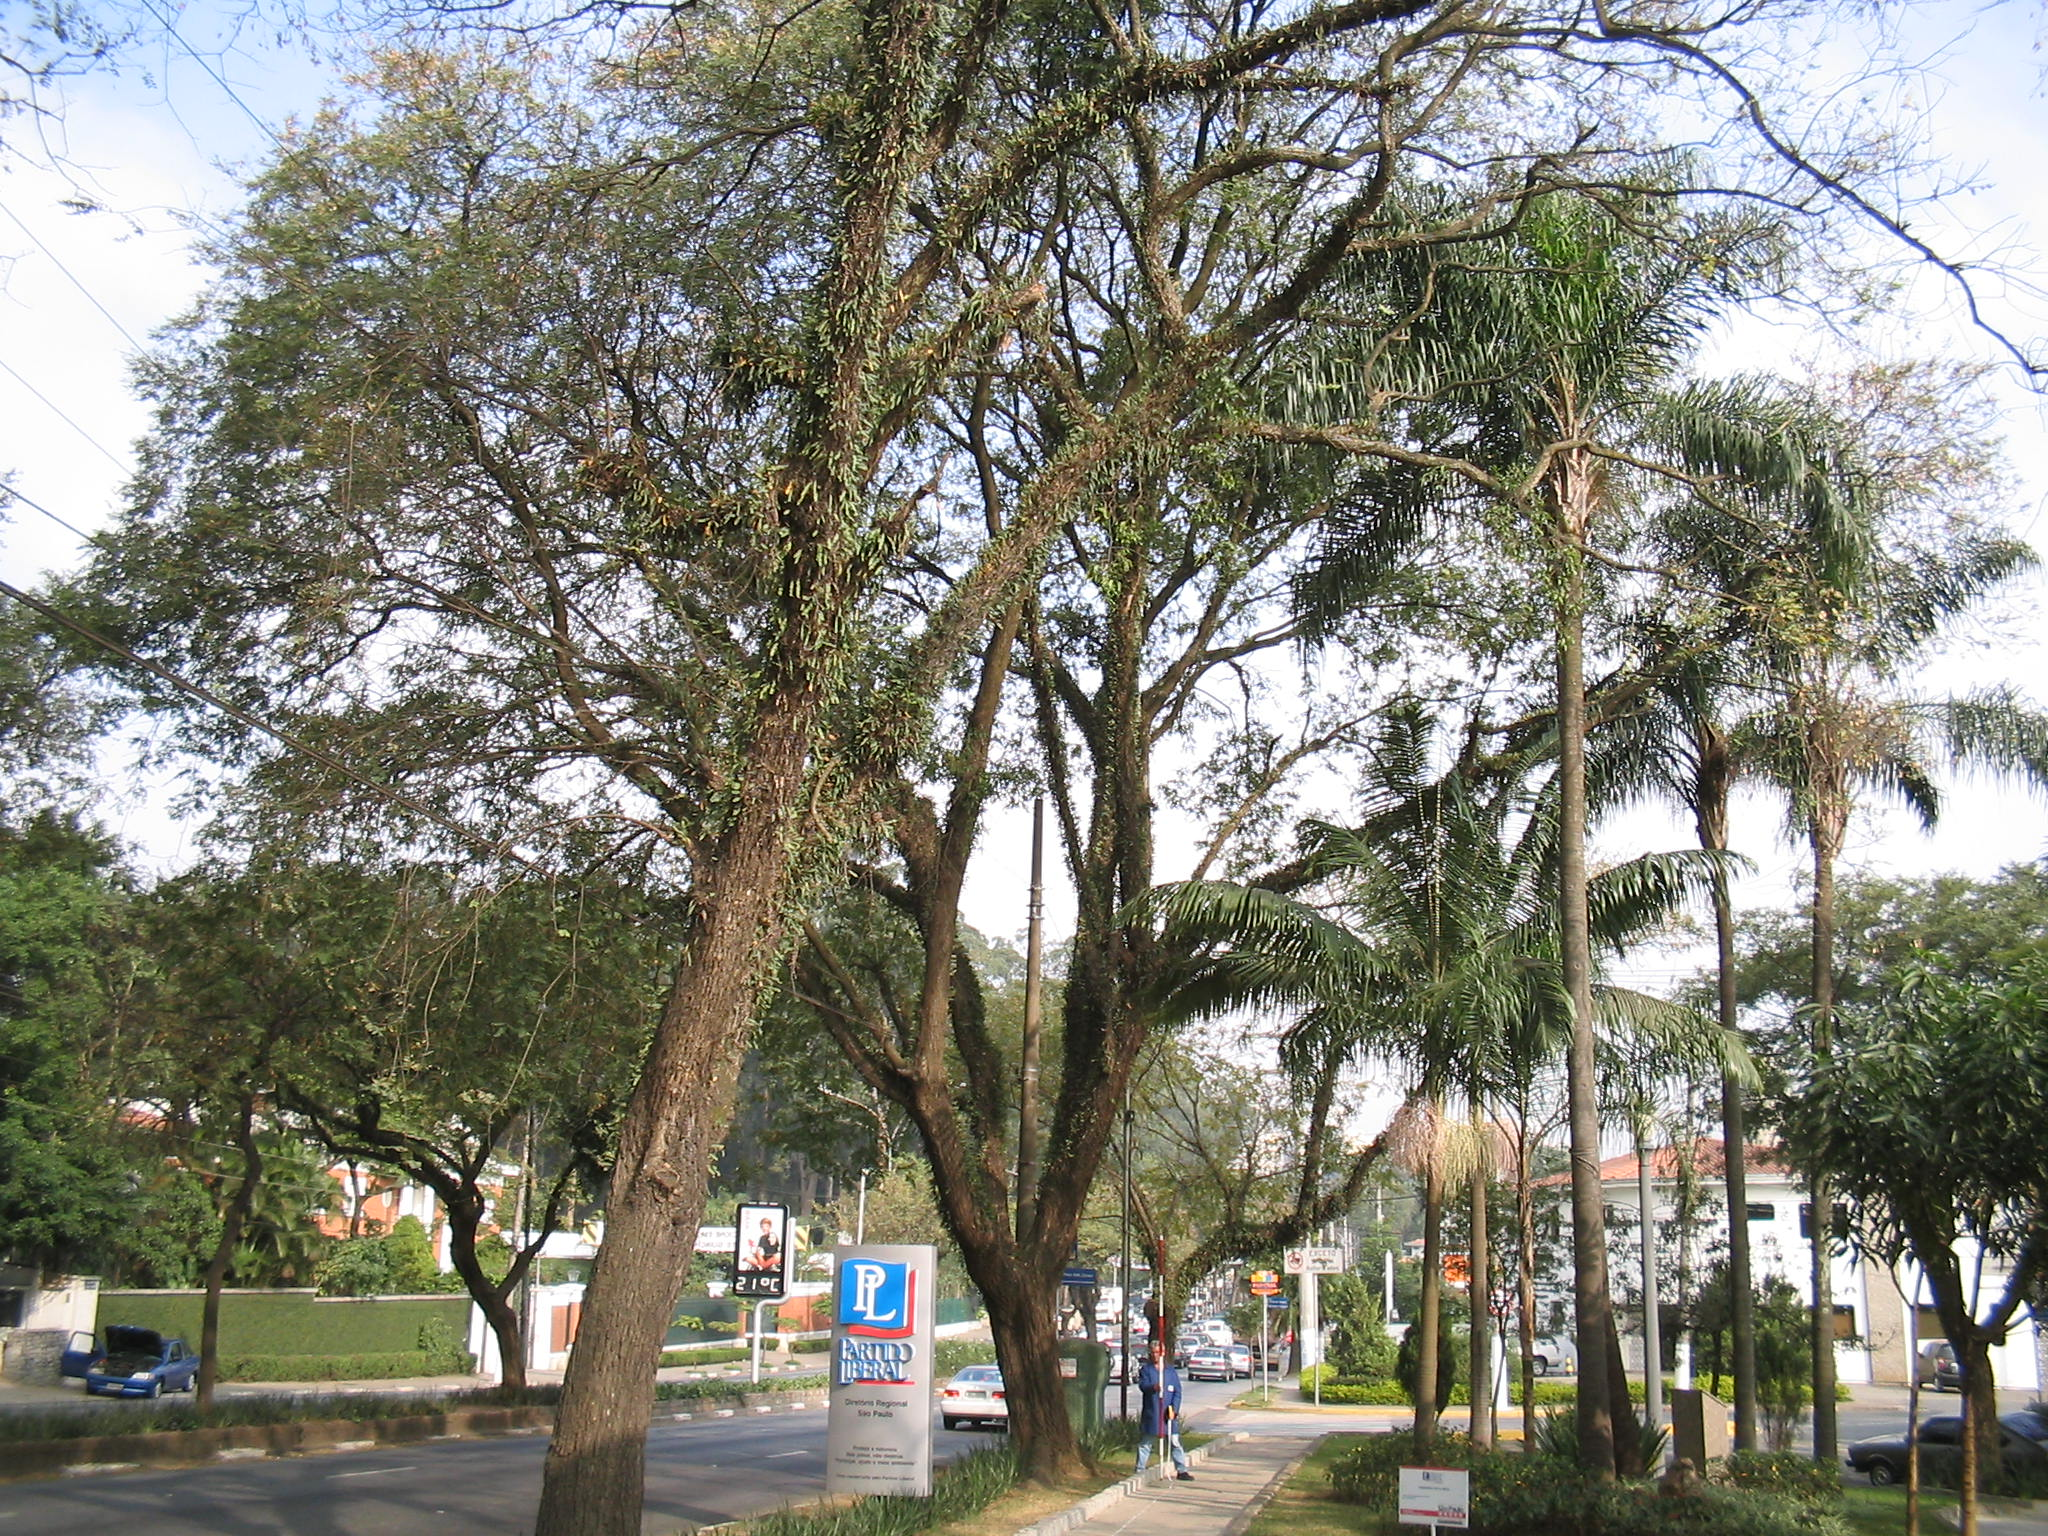crown: (160, 874, 690, 1197)
stem: (945, 1262, 1113, 1476), (458, 1289, 548, 1389)
stick: (1145, 1234, 1177, 1480)
tree: (60, 15, 1193, 1480), (156, 866, 693, 1396)
